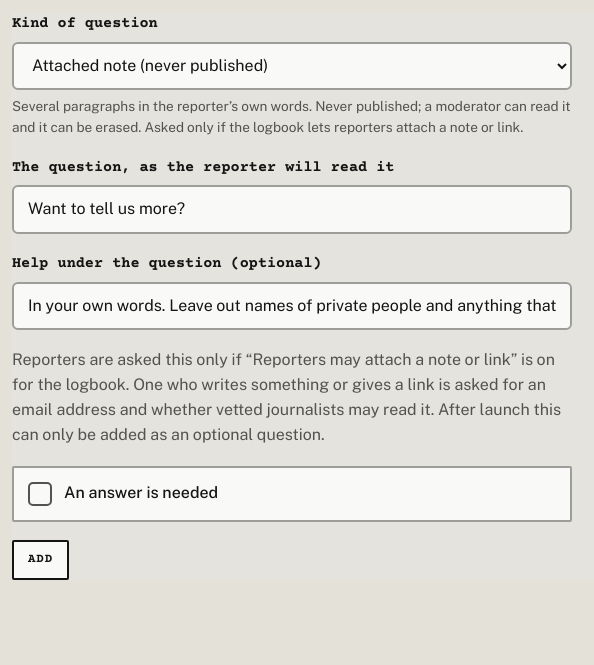
Test: the question form › shows the server’s refusal where the form is
In the field labelled "The question, as the reporter will read it": (292, 210) x1=12 y1=185 x2=572 y2=234, type "Pick"
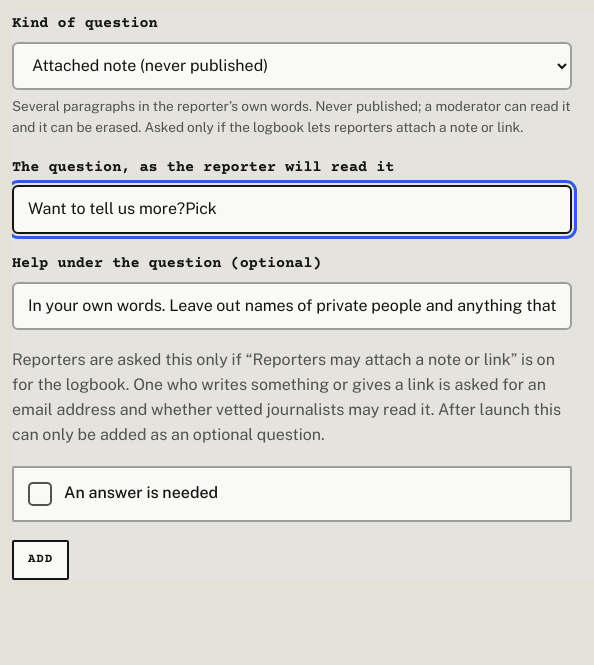
Click the button "Add": (41, 560) x1=12 y1=540 x2=69 y2=580
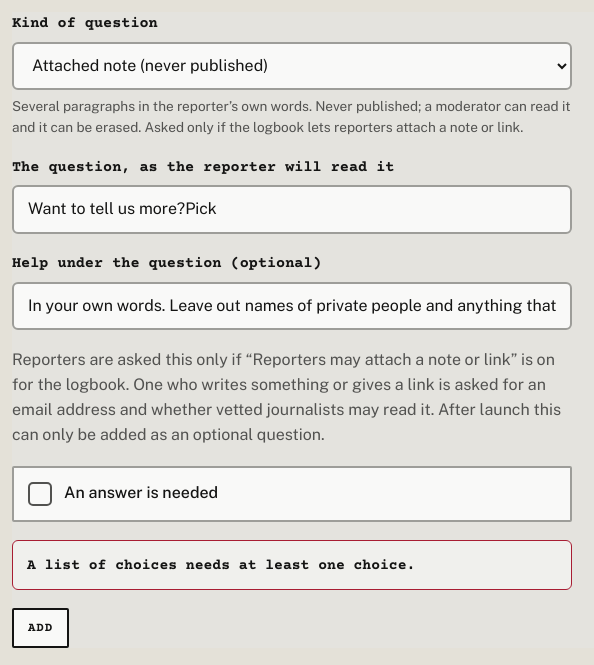
Check: the message reads "A list of choices needs at least one choice.", box x1=27 y1=557 x2=415 y2=574
